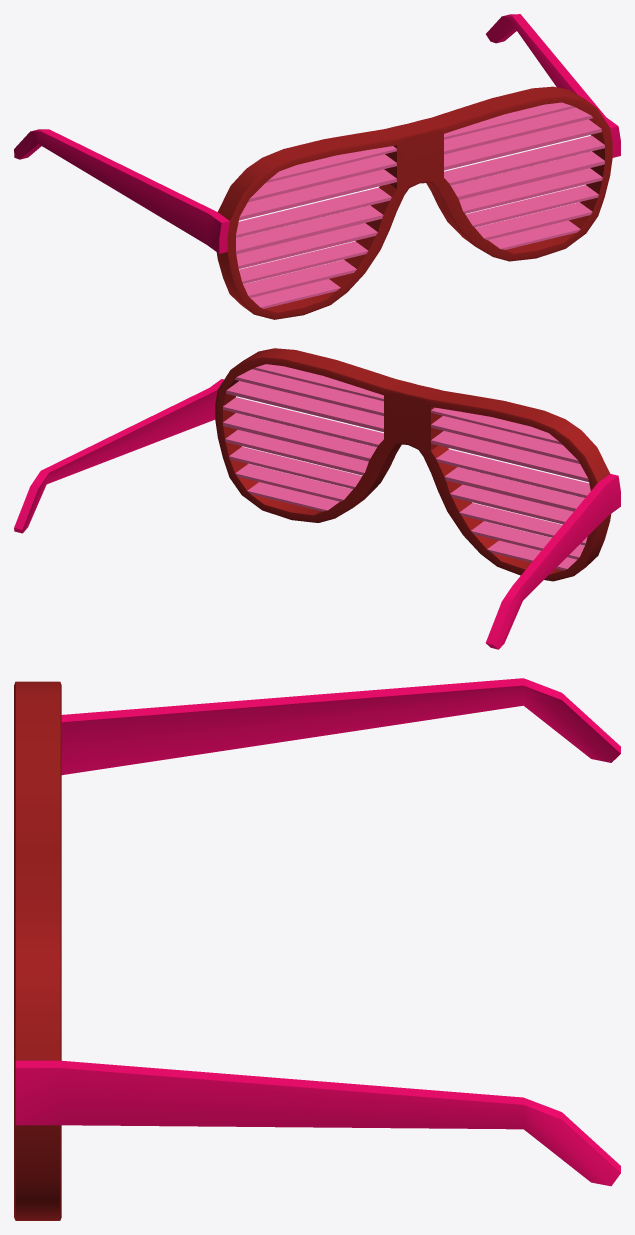
The model's file is Glasses_09_01.fbx.
3 renders of one model, top to bottom at view 1: azimuth 30°, elevation 25°; view 2: azimuth 150°, elevation 25°; view 3: azimuth 270°, elevation 25°, orthographic. The views are drawn at different scales.
Visible parts, largest first — view 1: Glasses_09_01; view 2: Glasses_09_01; view 3: Glasses_09_01.
Boxes of the visible parts, x1,y1,x2,y2 form: Glasses_09_01: (14,14,620,319); Glasses_09_01: (14,348,620,649); Glasses_09_01: (14,678,620,1220).
Bounding box in the file's own units: 39.35 × 12.35 × 23.42.
